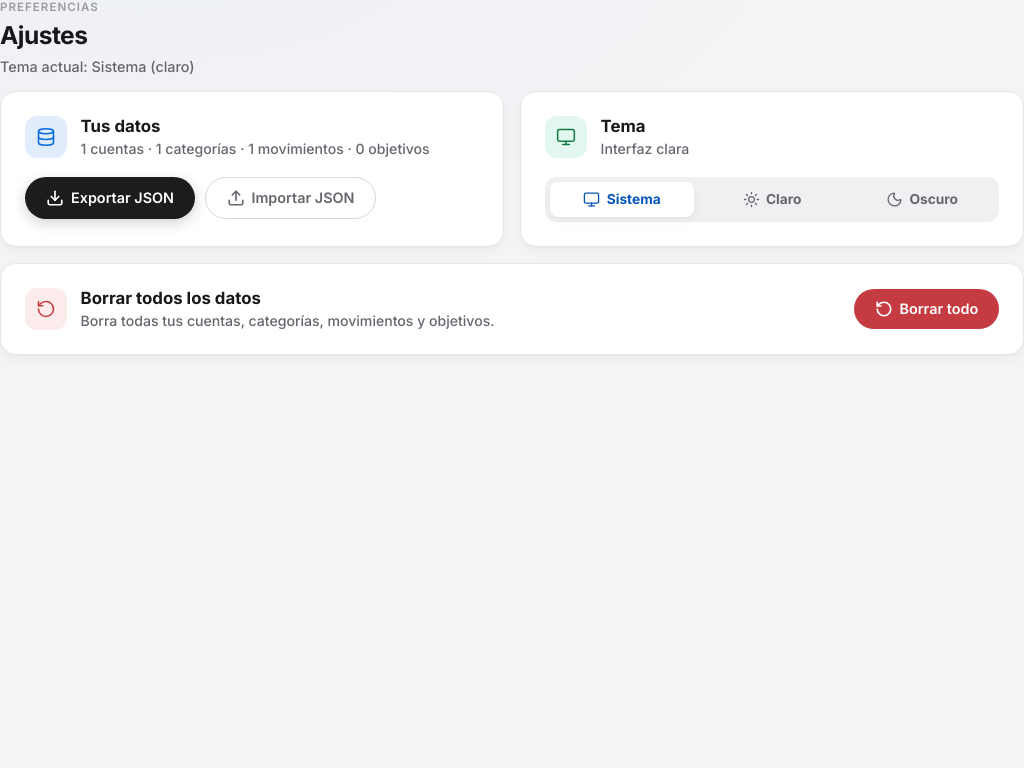
SettingsPage › confirms before clearing all data
Click the button "Borrar todo" at (927, 309), box [854,289,999,329]
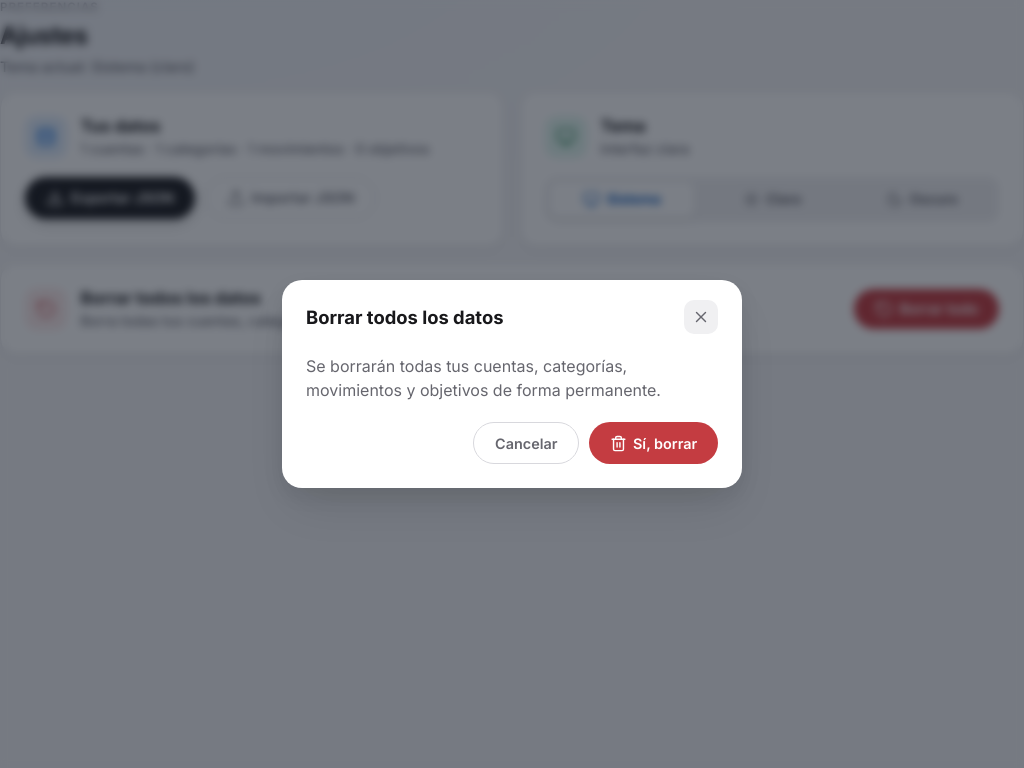
Click the button "Sí, borrar" at (653, 443), box [589,422,718,464]
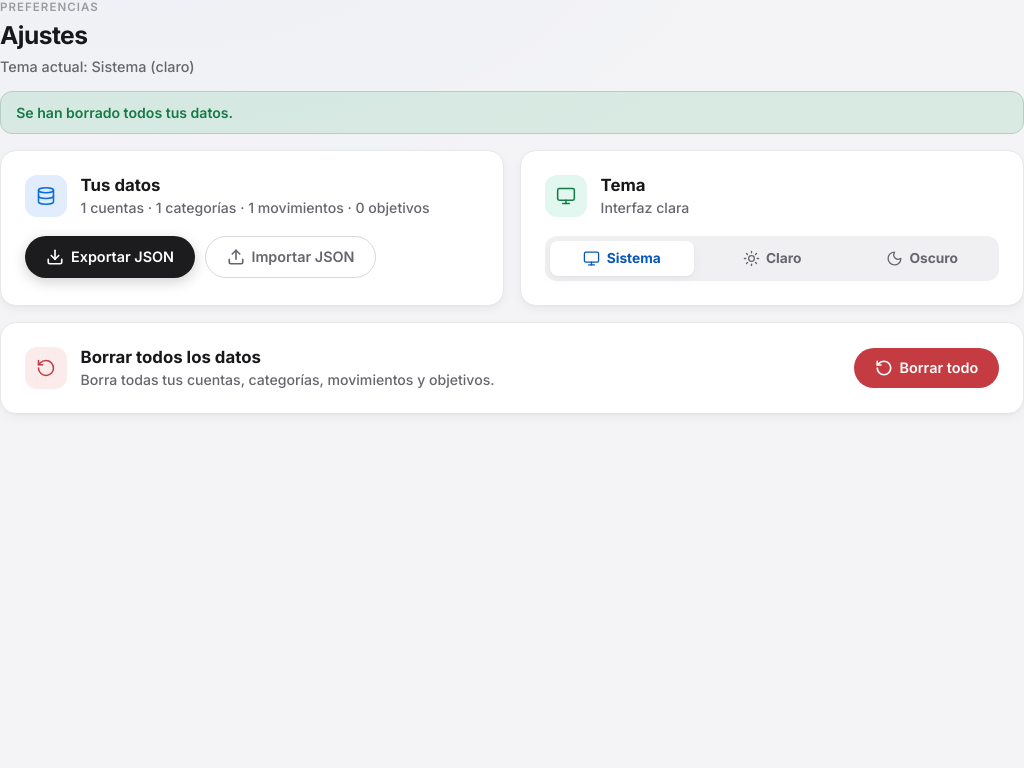
Result: the text "Se han borrado todos tus datos." is shown at [0,91,1023,134]
